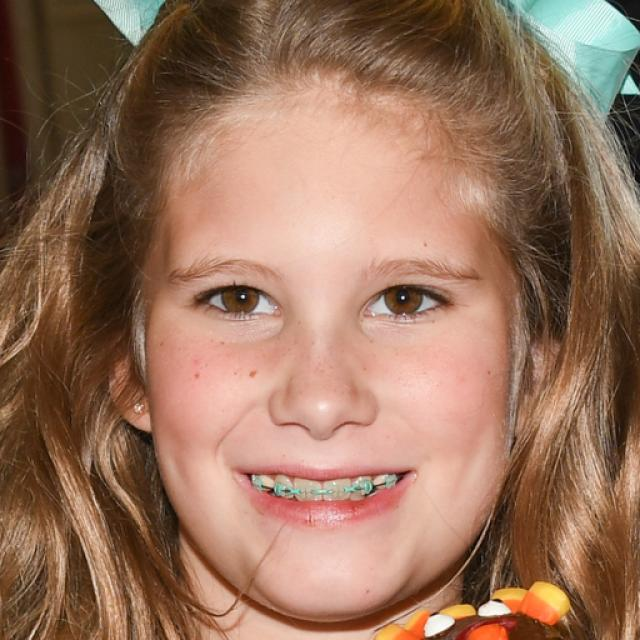Acne: (183, 354, 210, 384), (242, 357, 268, 388)
